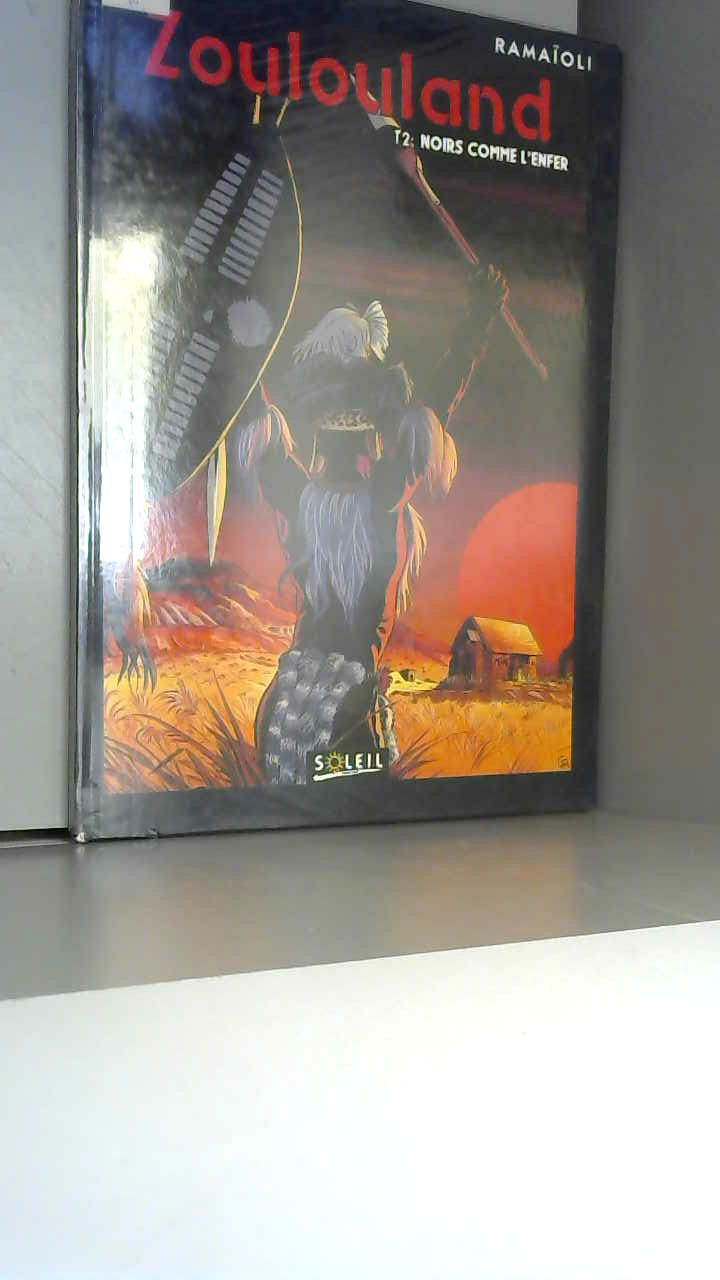book: (40, 0, 720, 940)
